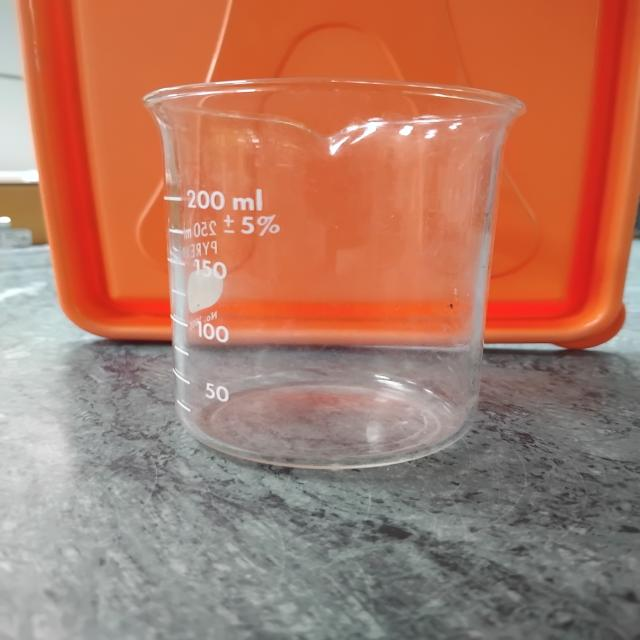Beaker: (106, 45, 564, 498)
